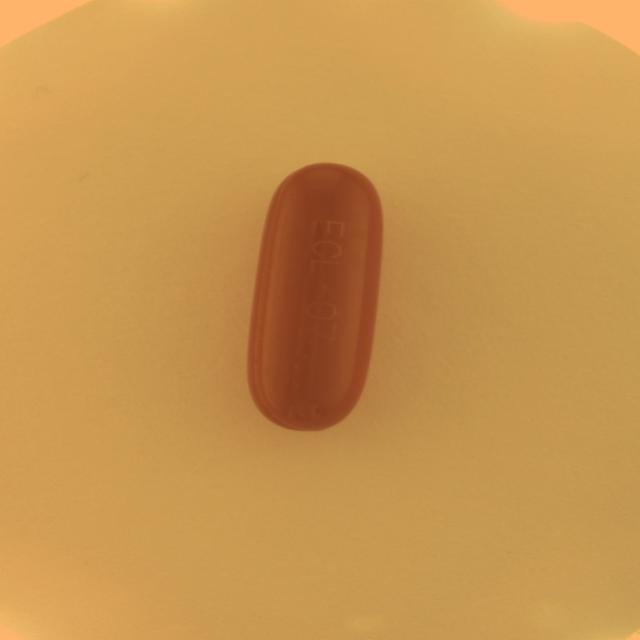Oval: (247, 162, 381, 433)
